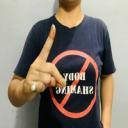hand: (24, 23, 66, 101)
